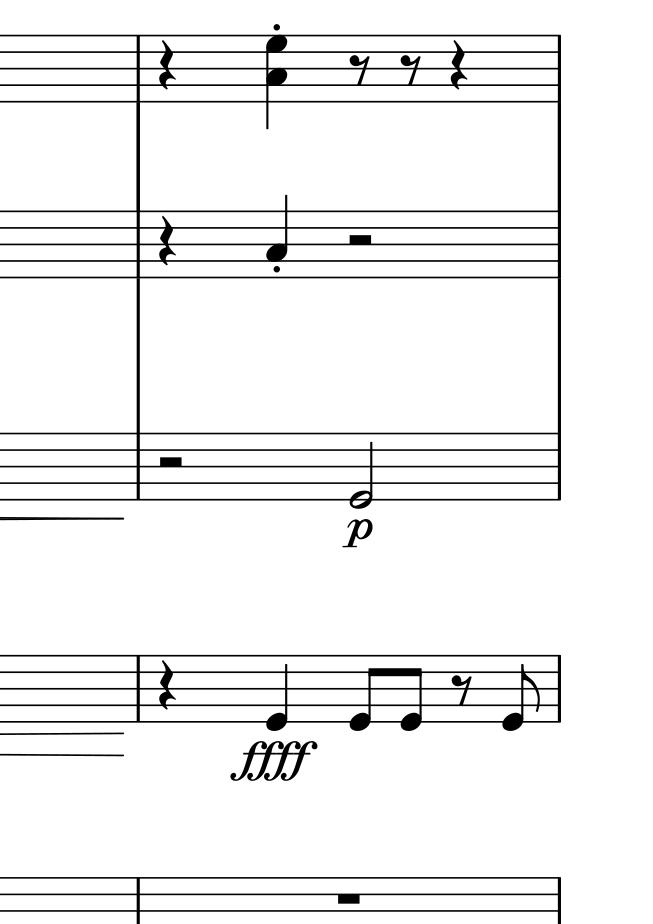2_0: (349, 429, 376, 512)
4_0: (263, 653, 291, 735)
4_3: (265, 195, 290, 279)
4_3_7: (264, 33, 289, 132)
8_0: (501, 656, 538, 732), (348, 655, 380, 733), (398, 653, 427, 734)
Rests1: (333, 890, 364, 907)
Rests2: (154, 454, 186, 471), (345, 232, 375, 248)
Rests4: (155, 660, 178, 713), (155, 215, 177, 268), (155, 40, 177, 92), (448, 39, 469, 92)
Rests8: (450, 673, 474, 707), (348, 53, 372, 86), (399, 53, 422, 86)
Single_barline: (129, 211, 147, 276), (130, 35, 147, 100), (550, 212, 567, 276), (551, 36, 567, 101), (130, 433, 145, 500), (551, 433, 566, 499), (130, 656, 145, 720), (552, 656, 566, 722)
ffff: (235, 737, 319, 785)
p: (341, 517, 375, 551)
